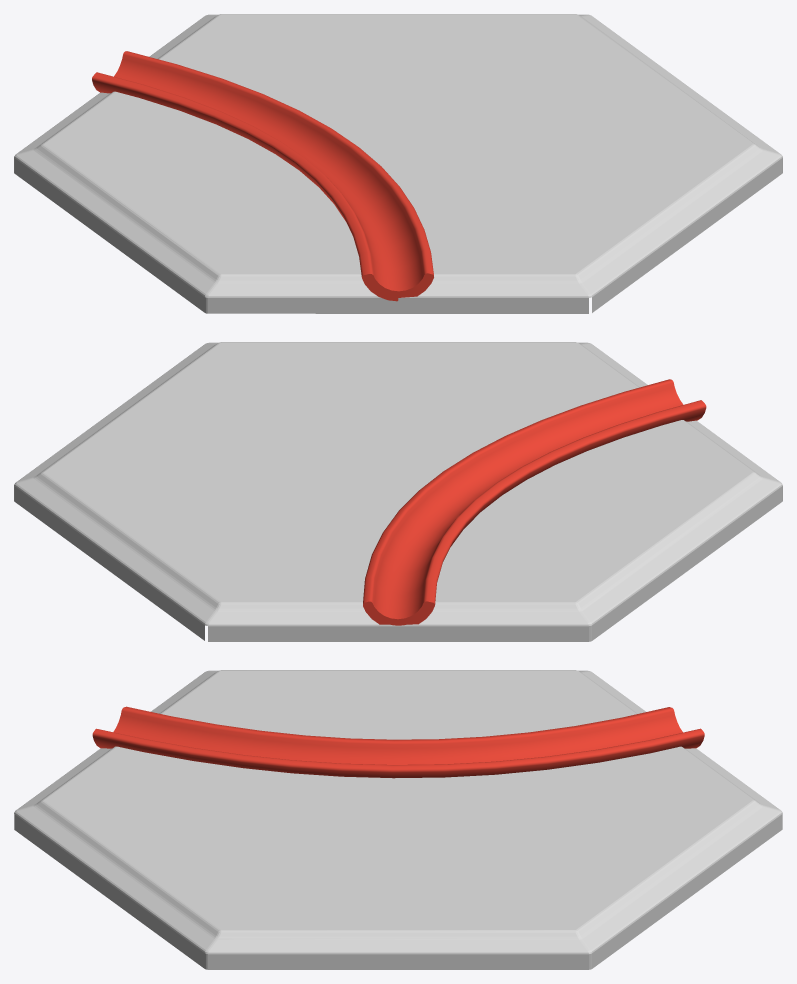
The model's file is tile_1arc.glb.
3 renders of one model, top to bottom at view 1: azimuth 30°, elevation 25°; view 2: azimuth 150°, elevation 25°; view 3: azimuth 270°, elevation 25°, orthographic.
Parts seen in each view (by area): view 1: arc_tunnel.002; view 2: arc_tunnel.002; view 3: arc_tunnel.002.
Boxes of the visible parts, bbox=[...] form: arc_tunnel.002: bbox=[14, 14, 782, 313]; arc_tunnel.002: bbox=[14, 342, 782, 641]; arc_tunnel.002: bbox=[14, 670, 782, 969].
Size of the model in its own units: 1.73 by 0.1158 by 2.
